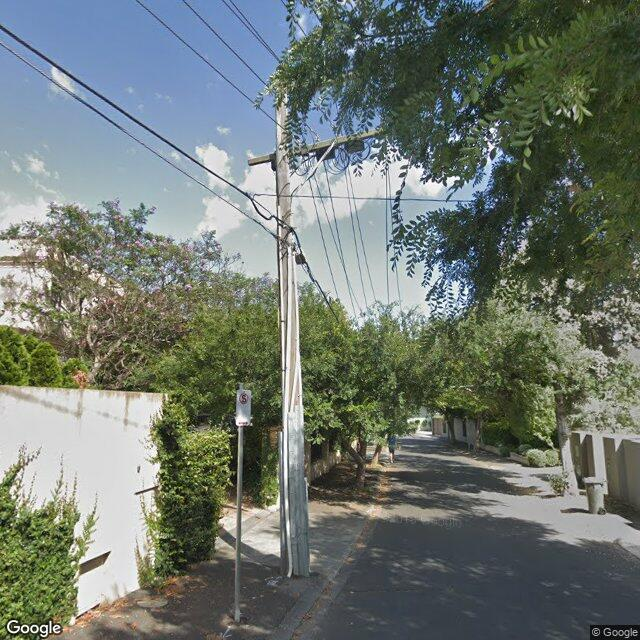crossarm: (248, 126, 384, 166)
timber-pole: (275, 91, 311, 580)
